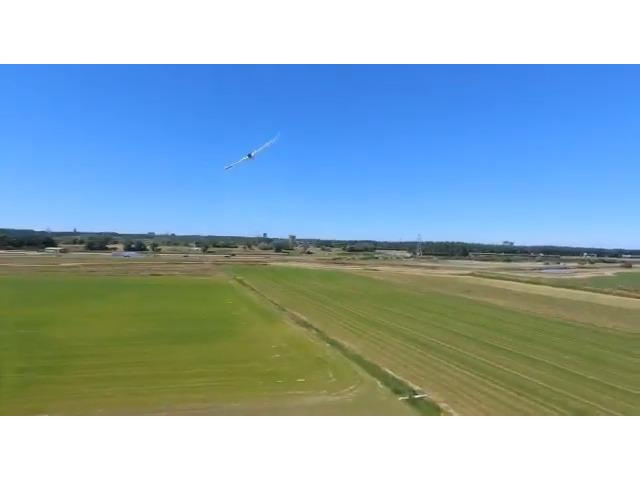Anti-Drone: (208, 122, 300, 184)
